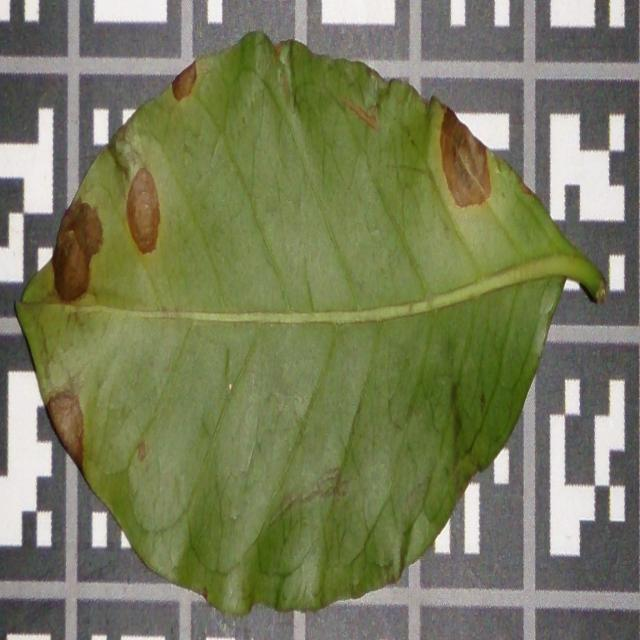Enfermedad-Mancha-de-hierro: (14, 32, 607, 621)
